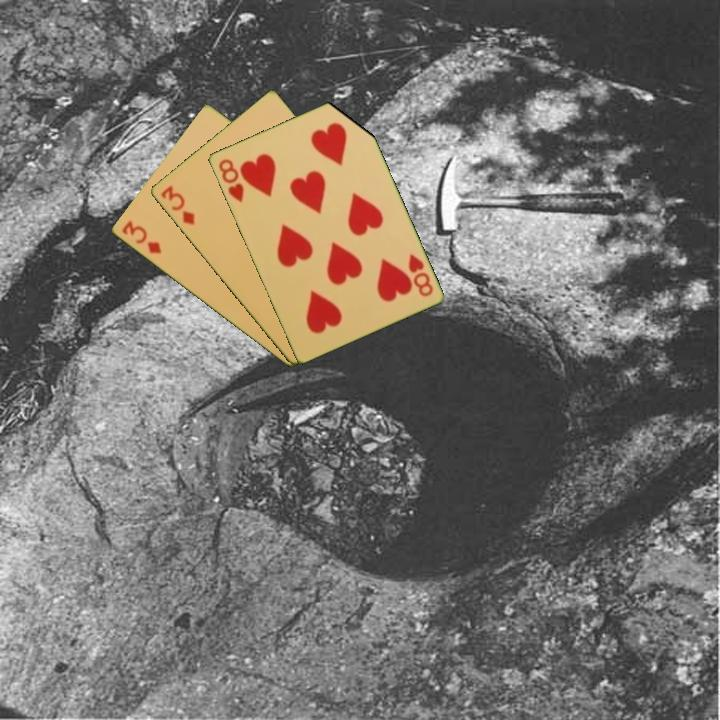3d: (156, 182, 197, 228), (118, 217, 164, 257)
8h: (215, 155, 246, 206), (404, 250, 436, 299)
